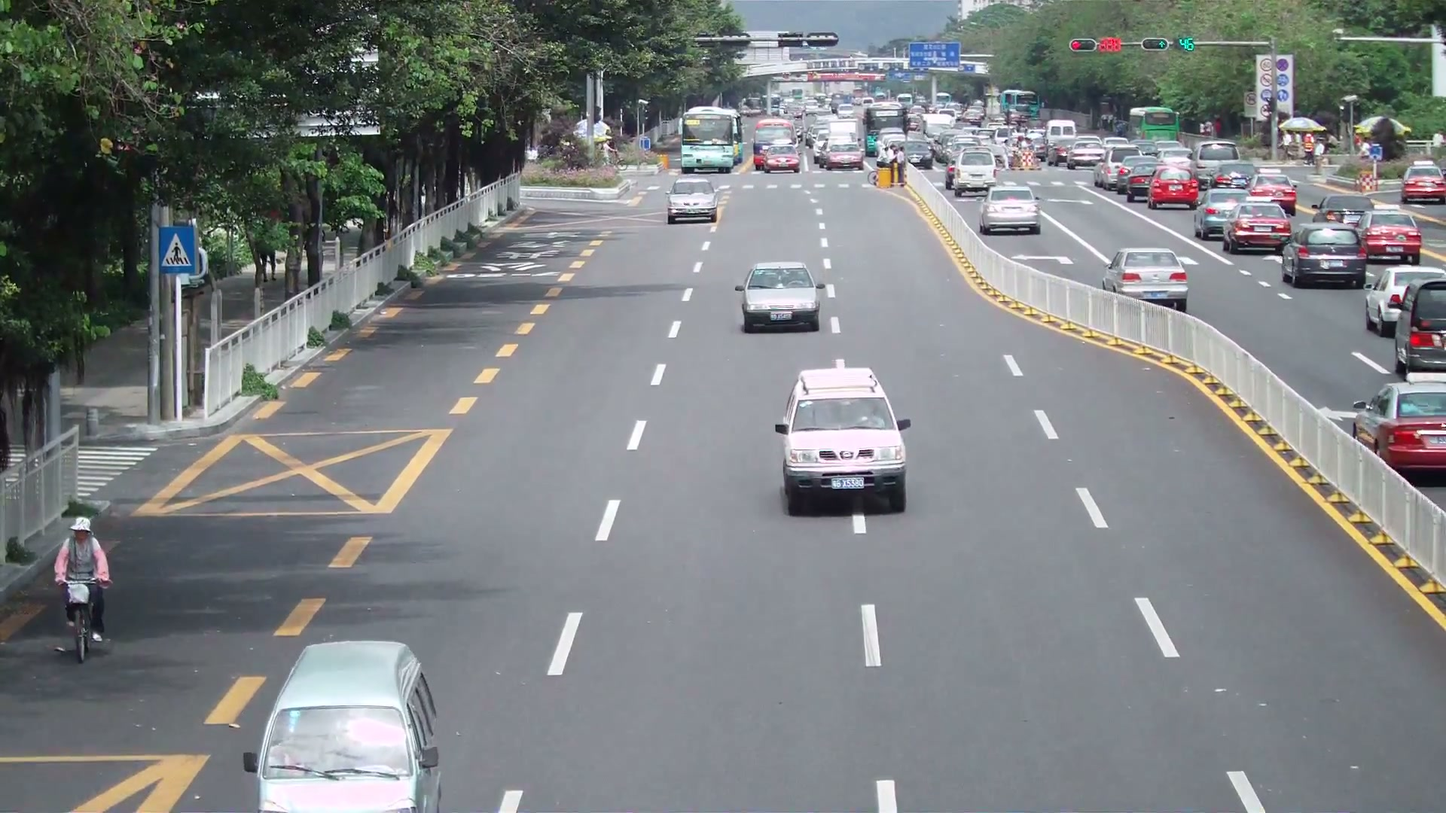bus: (681, 105, 741, 173)
car: (254, 639, 443, 812), (773, 365, 912, 515), (1359, 382, 1445, 479), (1362, 263, 1446, 338), (738, 261, 821, 333), (1279, 222, 1366, 289), (1101, 248, 1190, 310), (1392, 280, 1446, 378), (1224, 203, 1292, 255), (978, 185, 1040, 234), (1360, 219, 1424, 263), (1194, 189, 1250, 238), (666, 180, 718, 224), (1147, 169, 1201, 209), (753, 135, 801, 174), (1400, 163, 1445, 202)
pedestrian: (53, 517, 111, 641)
truck: (818, 111, 865, 171)
